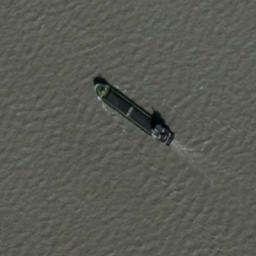boat: (92, 79, 175, 145)
